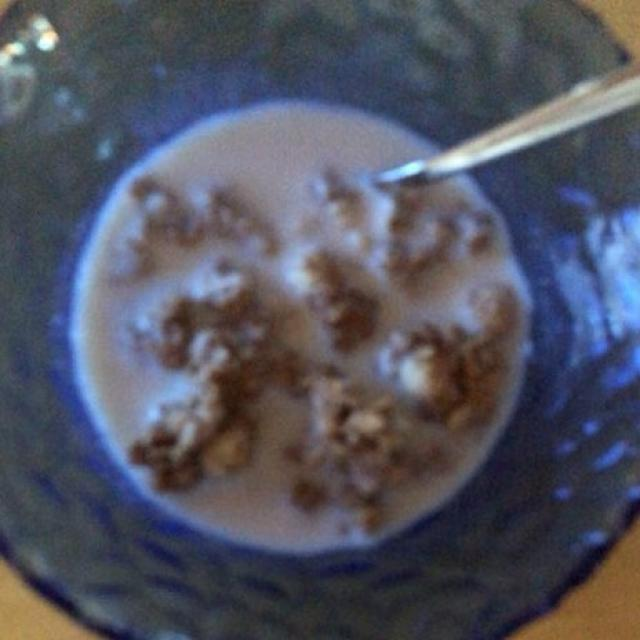crunch-muesli: (95, 149, 530, 523), (121, 176, 525, 547), (104, 173, 512, 514)
milk: (78, 90, 513, 538)
